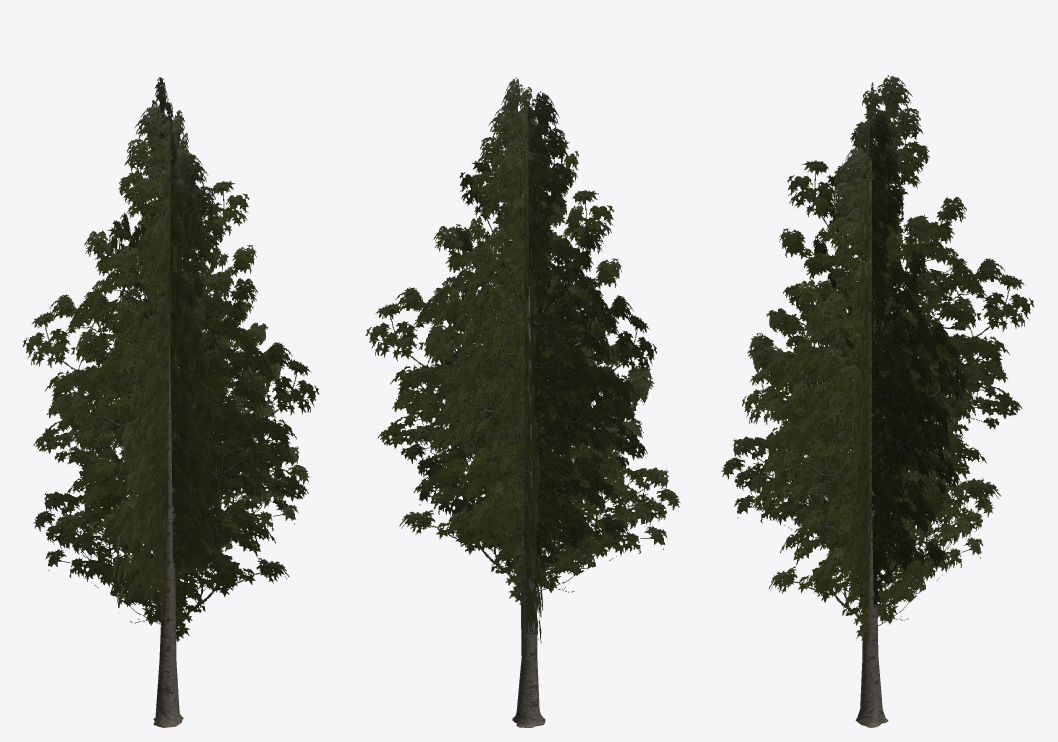
Rendered from tree_rt_2_1.glb.
3 views of the same model, side by side, from view 1: azimuth 30°, elevation 25°; view 2: azimuth 150°, elevation 25°; view 3: azimuth 270°, elevation 25° (orthographic). The views are drawn at different scales.
Visible parts, largest first — view 1: tree_rt_2_1; view 2: tree_rt_2_1; view 3: tree_rt_2_1.
Boxes of the visible parts, box(x1,y1,x2,y2) form: tree_rt_2_1: box(22, 77, 319, 727); tree_rt_2_1: box(365, 77, 680, 727); tree_rt_2_1: box(721, 75, 1034, 727).
Bounding box in the file's own units: 2.31 × 5.06 × 2.31.
Materials: 2 (2 with a texture image).
